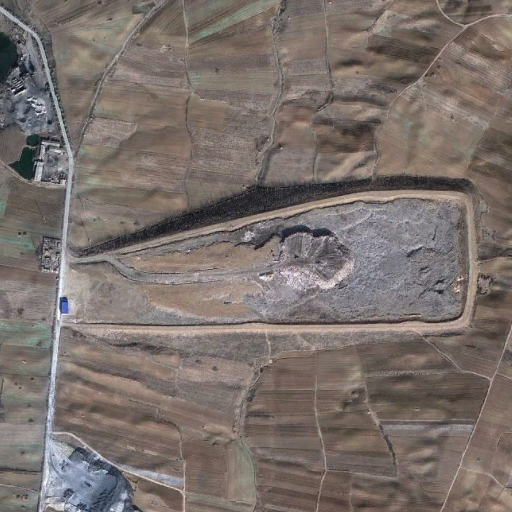lf: (233, 194, 465, 329)
